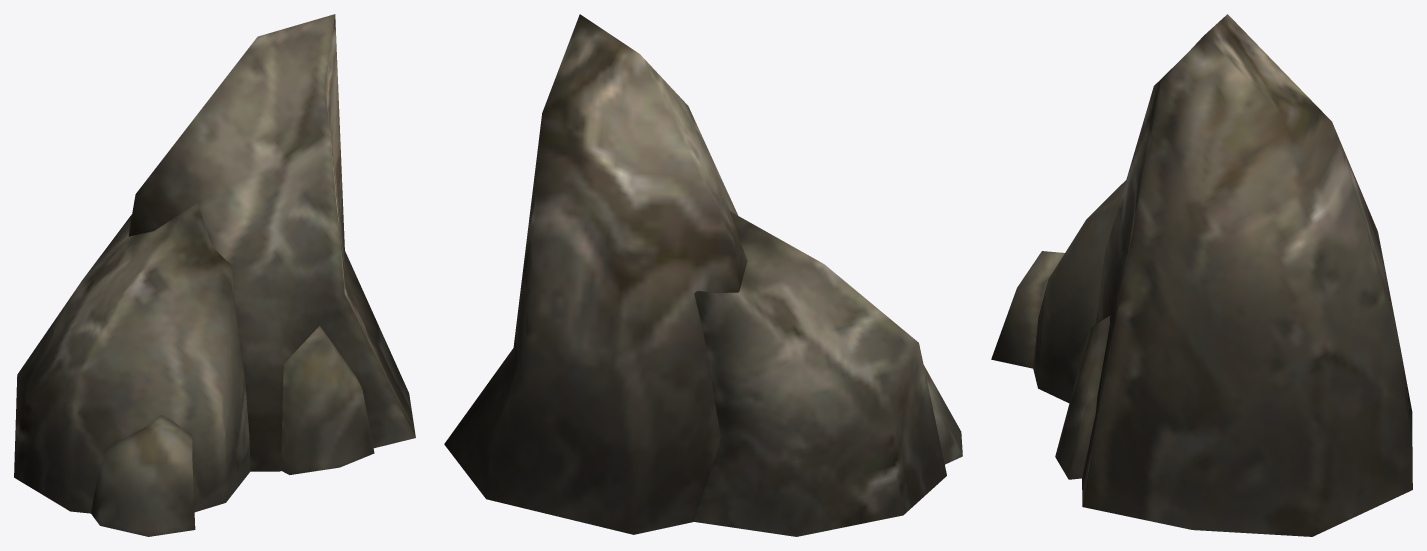
Rendered from stone_058.FBX.
3 renders of one model, left to right at view 1: azimuth 30°, elevation 25°; view 2: azimuth 150°, elevation 25°; view 3: azimuth 270°, elevation 25°, orthographic. The views are drawn at different scales.
Parts seen in each view (by area): view 1: stone_058_01; view 2: stone_058_01; view 3: stone_058_01.
Part boxes in pixels (left/top/right/bottom): stone_058_01: left=14, top=14, right=415, bottom=536; stone_058_01: left=444, top=14, right=962, bottom=536; stone_058_01: left=991, top=14, right=1412, bottom=536.
Size of the model in its own units: 4.91 by 4.66 by 3.91.
